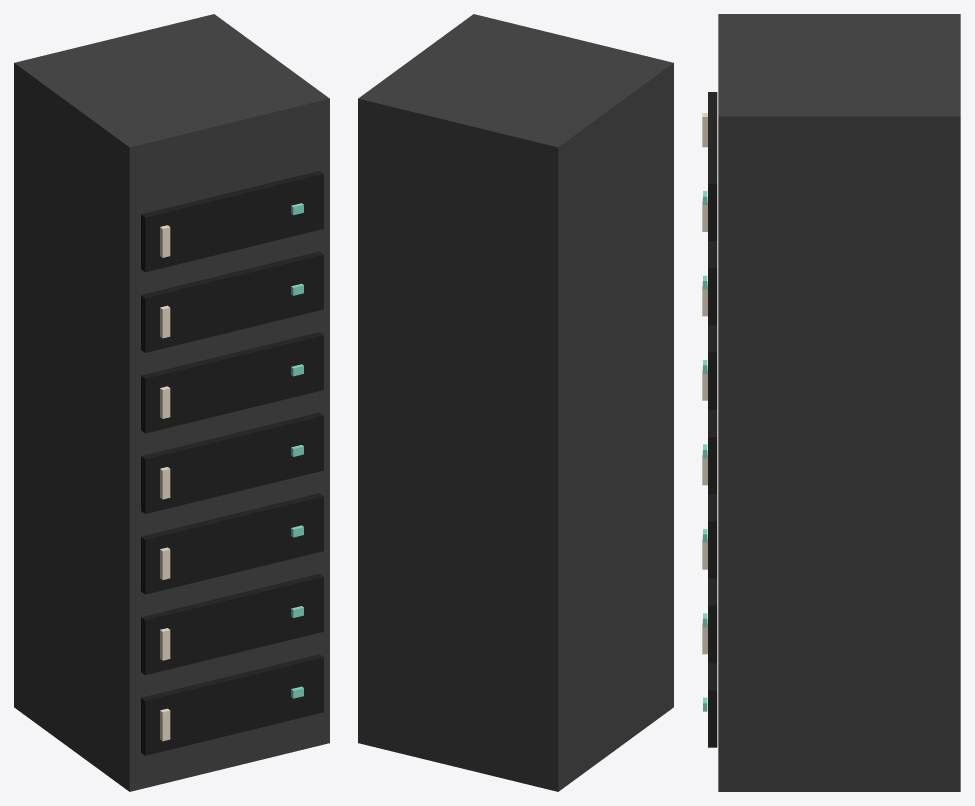
The picture shows the model from 3 angles, left to right: view 1: azimuth 30°, elevation 25°; view 2: azimuth 150°, elevation 25°; view 3: azimuth 270°, elevation 25°; orthographic projection. The views are drawn at different scales.
Parts seen in each view (by area): view 1: Server case, Server.006, Server.002, Server.003, Server.001, Server.004, Server, Server.005; view 2: Server case; view 3: Server case, Server.006, Server.001, Server, Server.002, Server.004, Server.003, Server.005.
Part boxes in pixels (x1,y1,x2,y2): Server case: (14,14,329,791); Server.006: (141,171,323,272); Server.002: (141,493,323,594); Server.003: (141,412,323,513); Server.001: (141,573,323,675); Server.004: (141,332,323,433); Server: (141,654,323,755); Server.005: (141,251,323,352); Server case: (358,14,673,791); Server case: (718,14,960,791); Server.006: (708,92,717,240); Server.001: (708,578,717,663); Server: (708,663,717,747); Server.002: (708,494,717,578); Server.004: (708,325,717,409); Server.003: (708,410,717,494); Server.005: (708,241,717,325).
Bounding box in the file's own units: 65 × 200 × 69.25.
